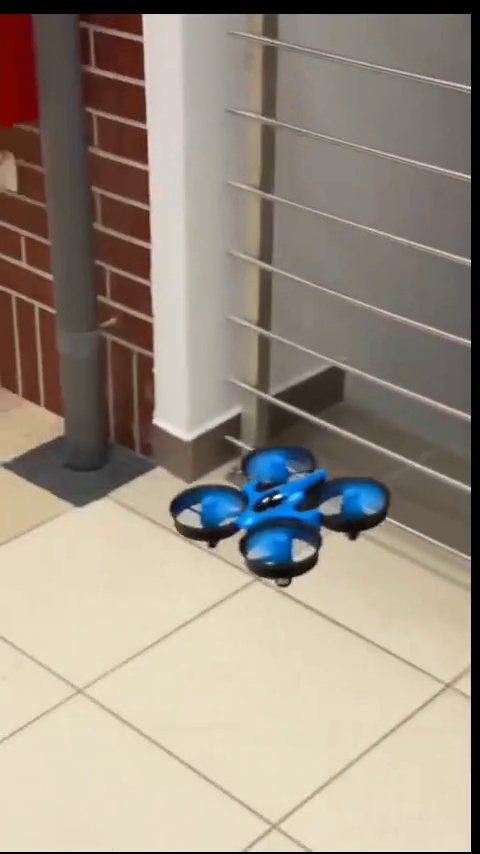drone: (171, 449, 384, 588)
